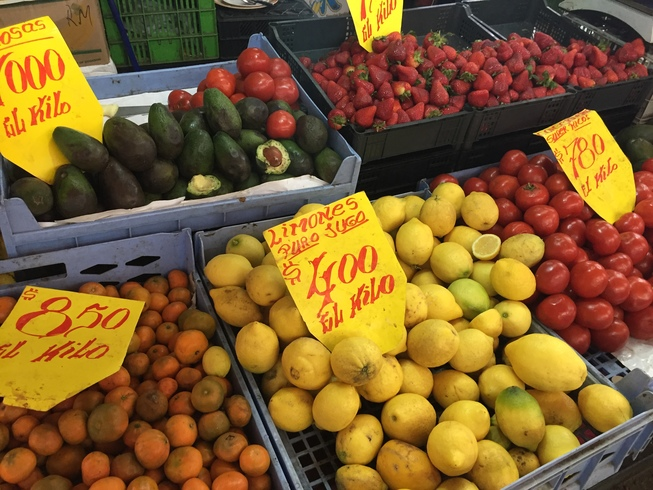precio: (264, 200, 417, 361), (1, 268, 146, 414), (1, 16, 109, 175), (541, 111, 640, 222), (347, 1, 402, 55)
